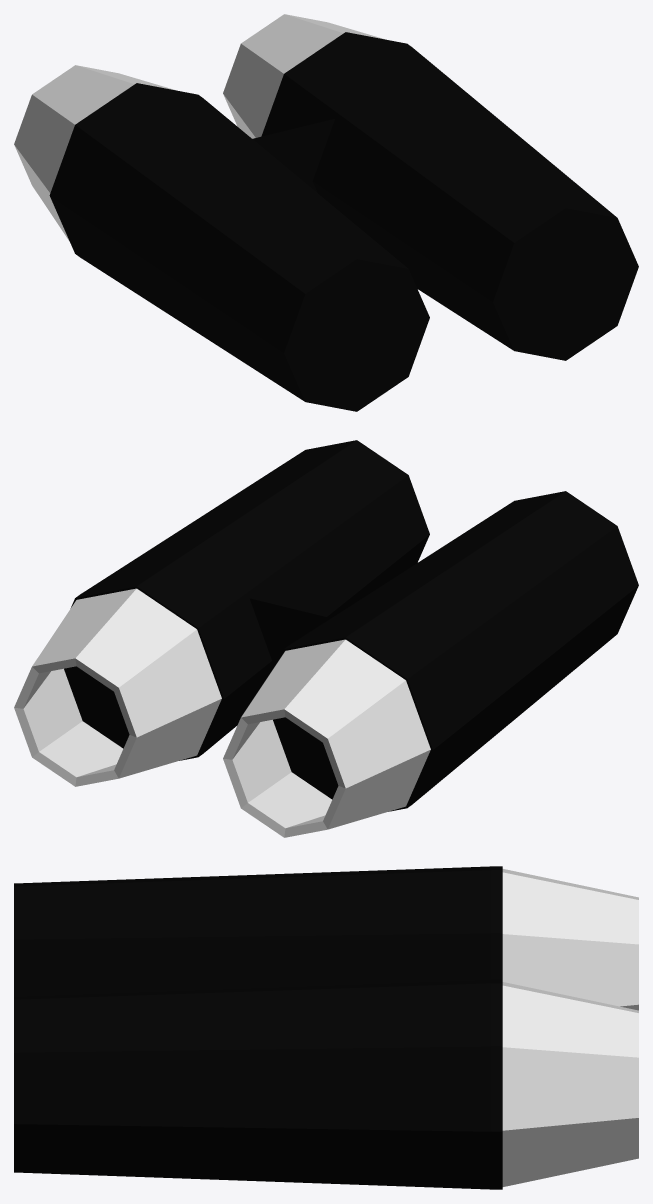
File: F15_Thruster.fbx
The picture shows the model from 3 angles, top to bottom: view 1: azimuth 30°, elevation 25°; view 2: azimuth 150°, elevation 25°; view 3: azimuth 270°, elevation 25°; orthographic projection. The views are drawn at different scales.
Visible parts, largest first — view 1: F15_Thruster; view 2: F15_Thruster; view 3: F15_Thruster.
Boxes of the visible parts, x1,y1,x2,y2 form: F15_Thruster: [14, 14, 638, 411]; F15_Thruster: [14, 440, 638, 837]; F15_Thruster: [14, 866, 638, 1189].
Bounding box in the file's own units: 0.4459 × 0.2029 × 0.5674.
Materials: 1 (1 with a texture image).
